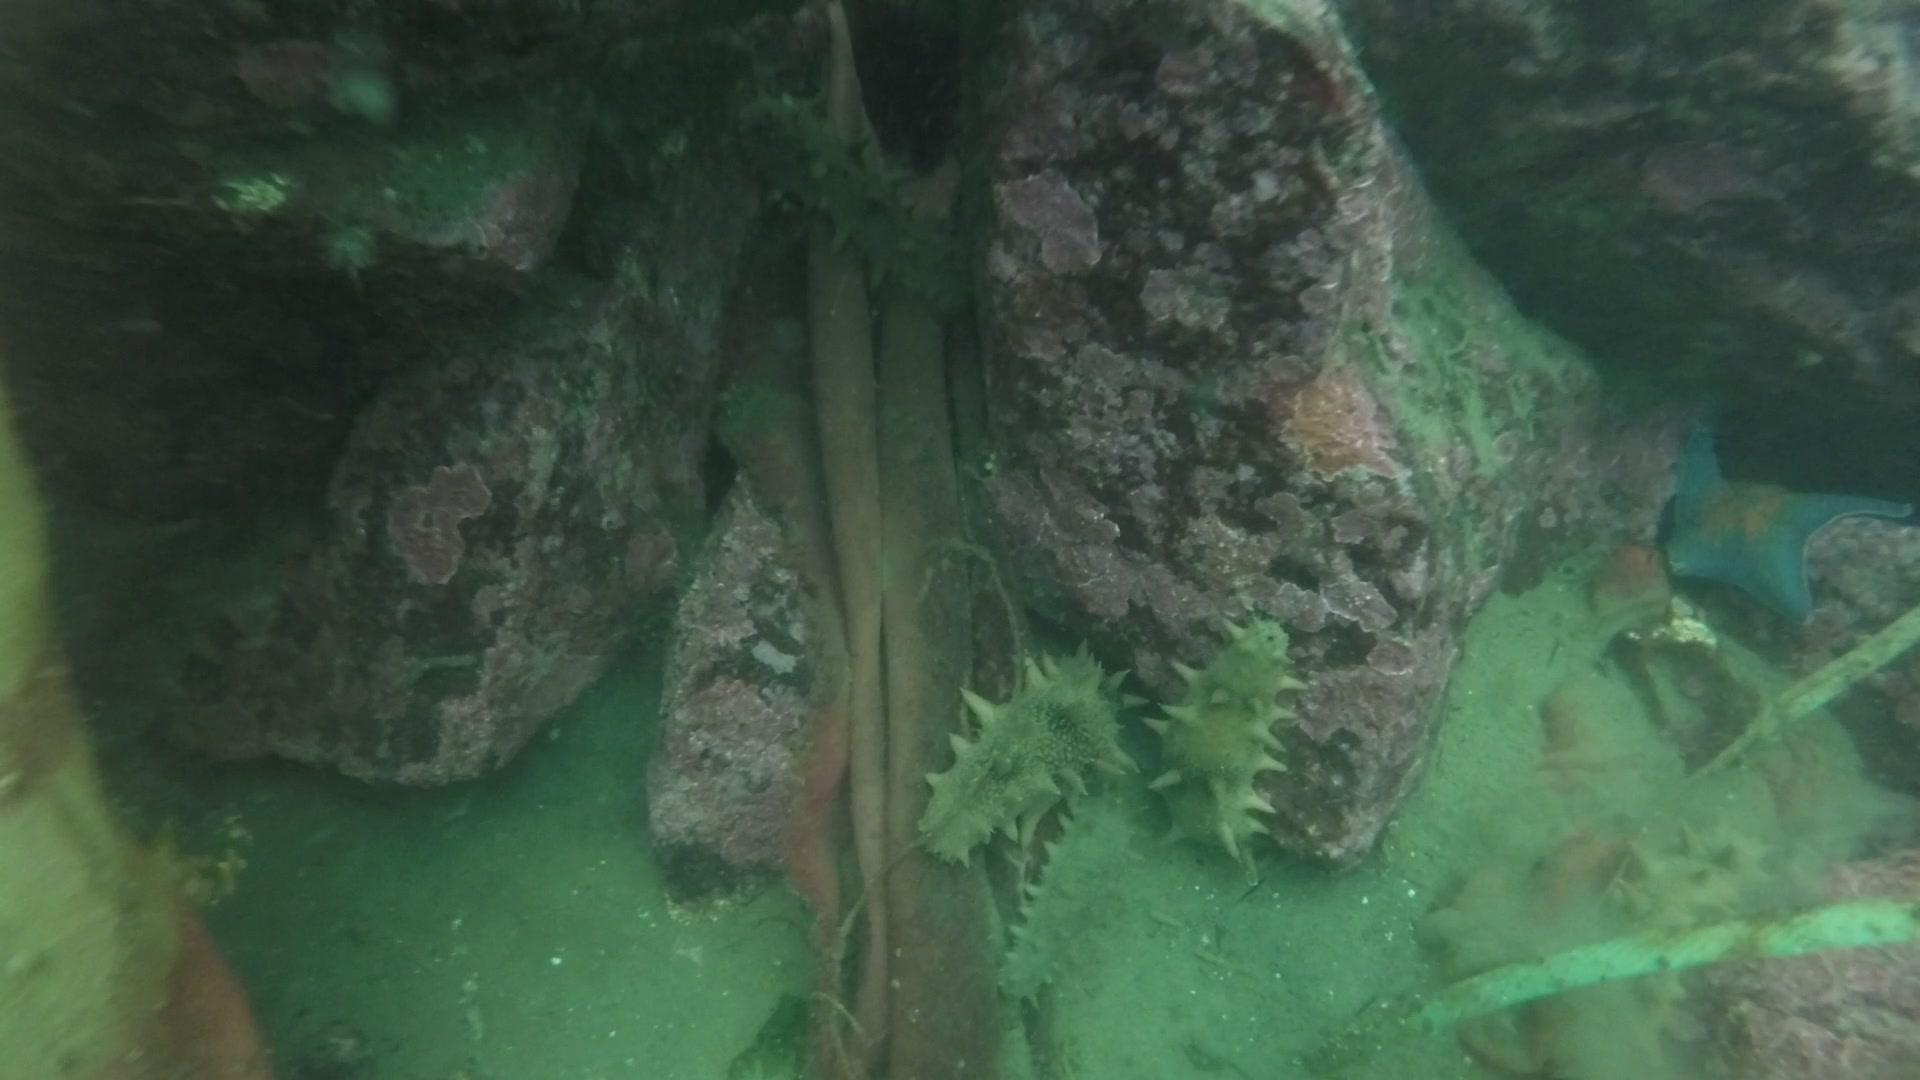holothurian: (913, 624, 1145, 876), (737, 84, 968, 331), (1154, 615, 1308, 885), (989, 785, 1146, 1001)
starfish: (1664, 407, 1920, 634)
